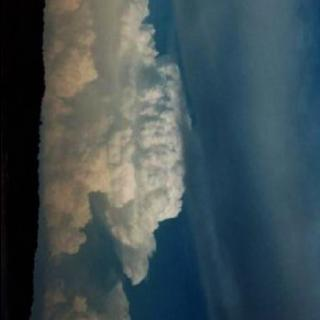Altostratus: (44, 0, 314, 320)
